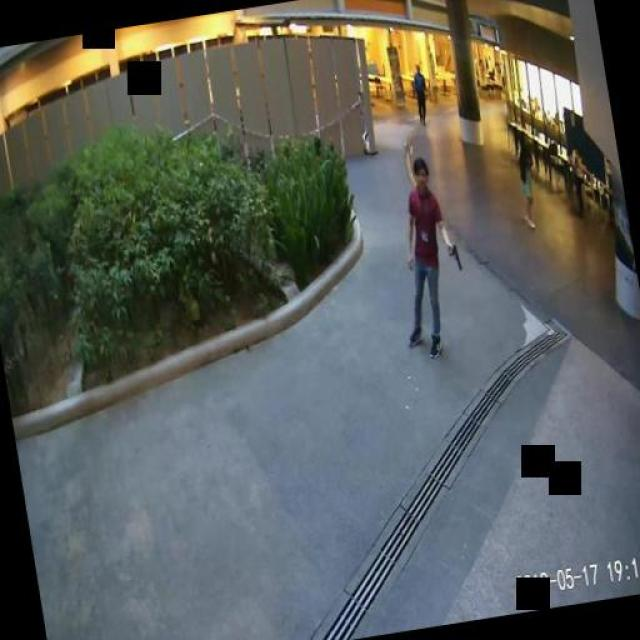gun: (444, 241, 460, 271)
